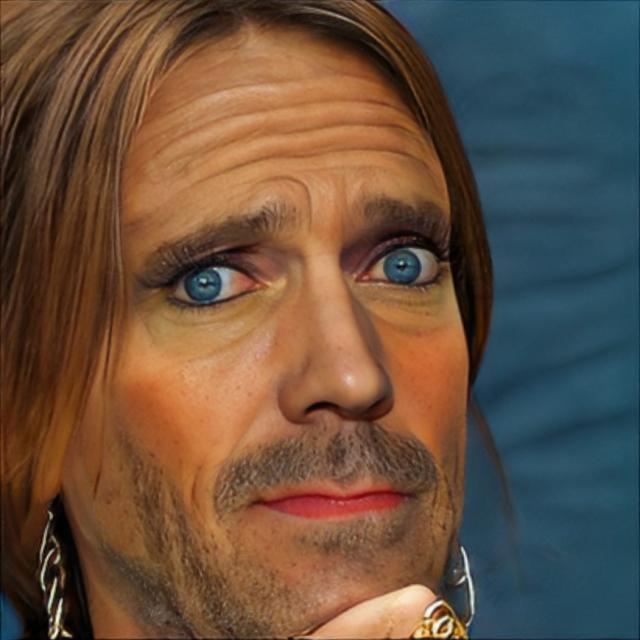fear: (62, 17, 472, 640)
